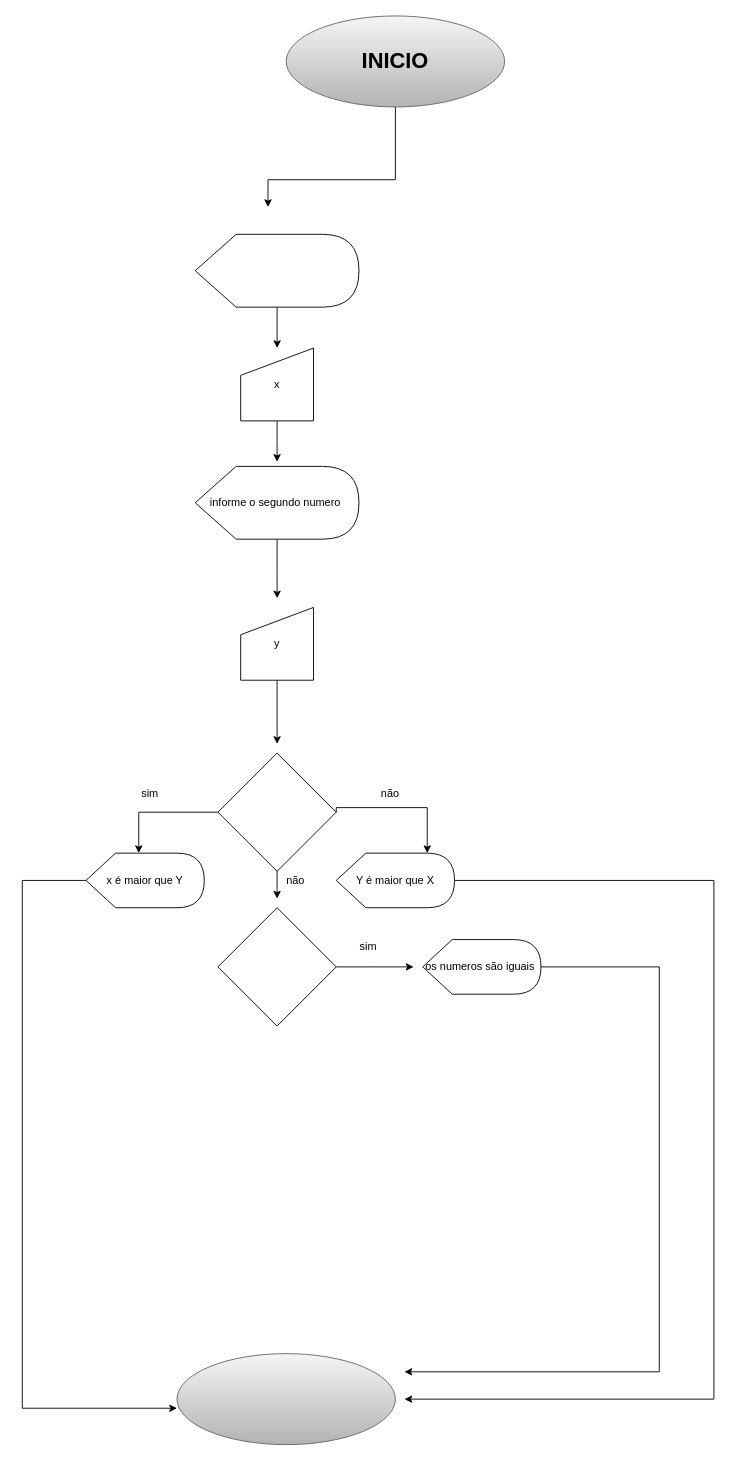
This 737x1461 diagram has some shape labels left out. The box of each missing label's shape, as (x1, y1, x2, y2) in pixels:
Fim: (176, 1353, 395, 1445)
Informe o primeiro numero: (194, 233, 359, 307)
X maior que Y ?: (217, 752, 336, 871)
X é igual a Y?: (217, 907, 336, 1026)
